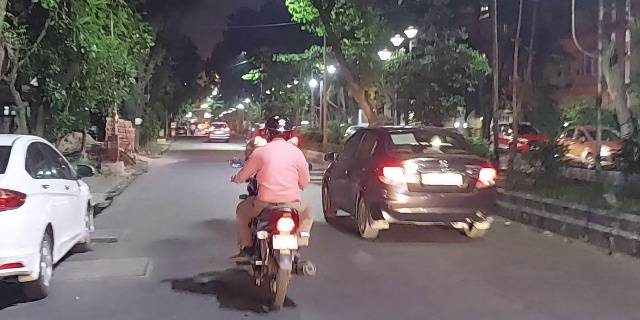Car: (321, 125, 495, 238)
Motorbike: (227, 115, 316, 310)
